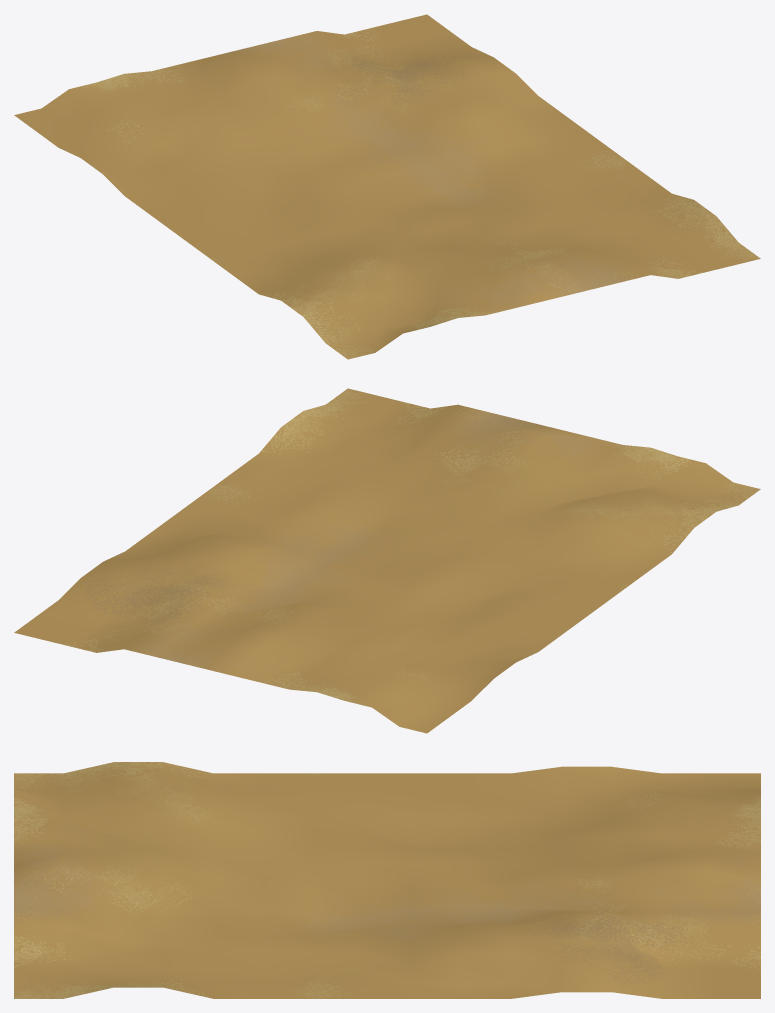
The model's file is sand.gltf.
The picture shows the model from 3 angles, top to bottom: view 1: azimuth 30°, elevation 25°; view 2: azimuth 150°, elevation 25°; view 3: azimuth 270°, elevation 25°; orthographic projection. The views are drawn at different scales.
Parts seen in each view (by area): view 1: pPlane1; view 2: pPlane1; view 3: pPlane1.
Boxes of the visible parts, x1,y1,x2,y2 form: pPlane1: (14, 14, 760, 359); pPlane1: (14, 388, 760, 733); pPlane1: (14, 762, 760, 998).
Size of the model in its own units: 2.79 by 0.1874 by 3.9.
Materials: 1 (1 with a texture image).
